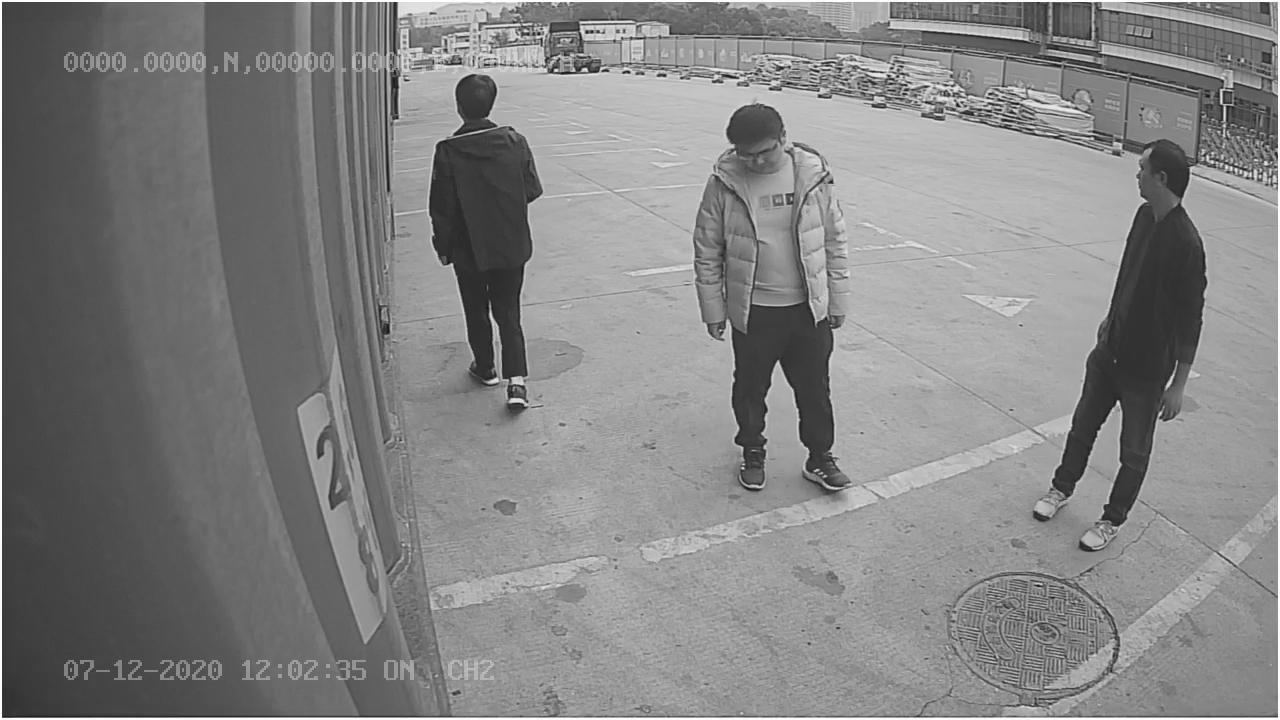person: (1031, 125, 1213, 553), (691, 97, 858, 492), (425, 69, 550, 408)
